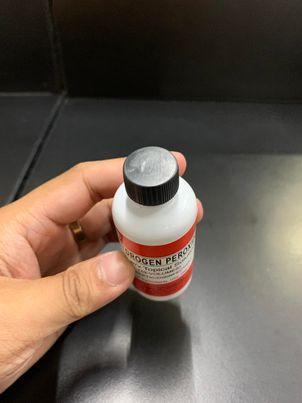-Bottle-: (111, 146, 198, 302)
